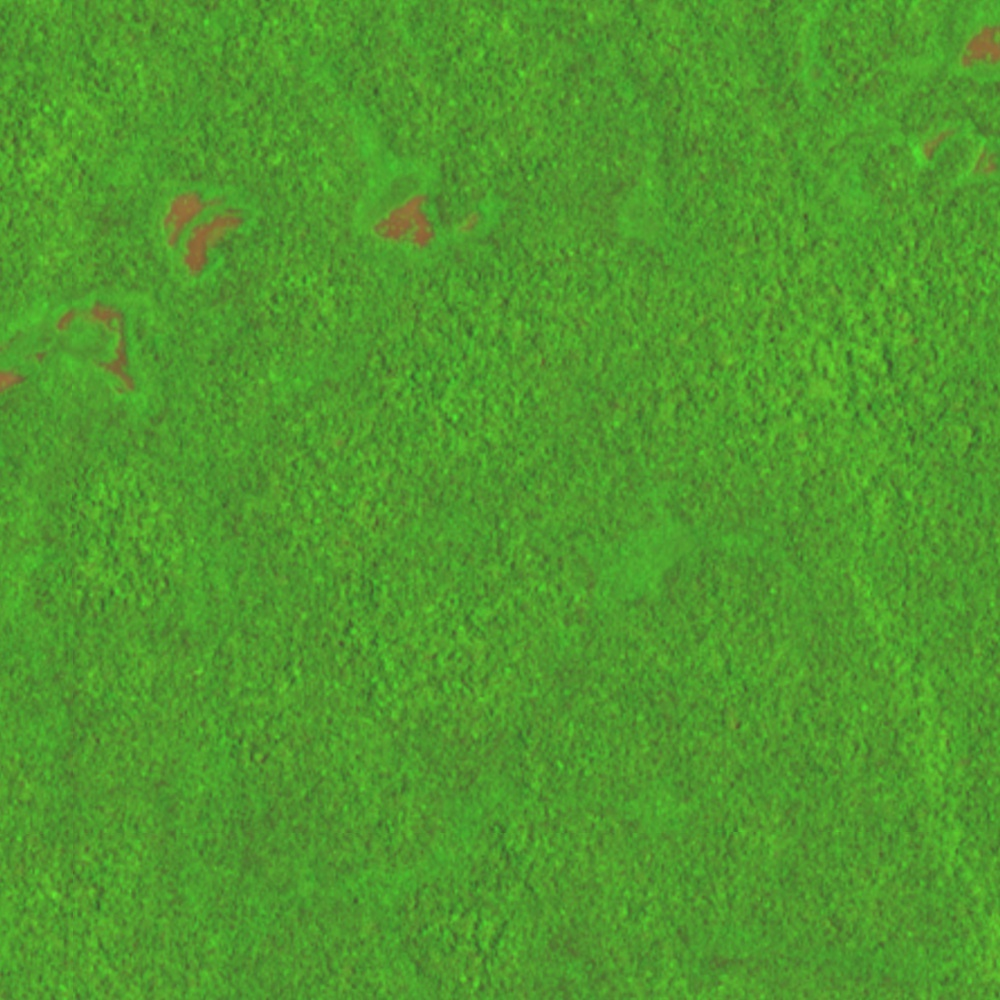legal: (1, 289, 144, 407), (912, 26, 1000, 176), (357, 174, 501, 251), (154, 180, 257, 284)
